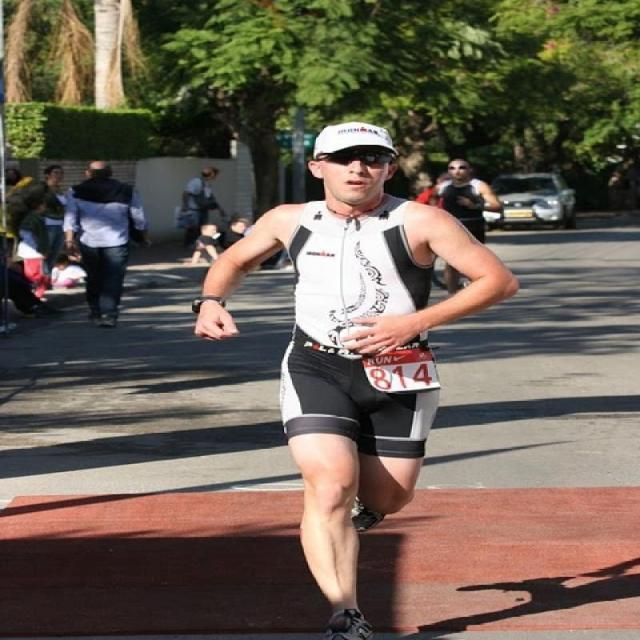dorsal: (357, 350, 449, 394)
